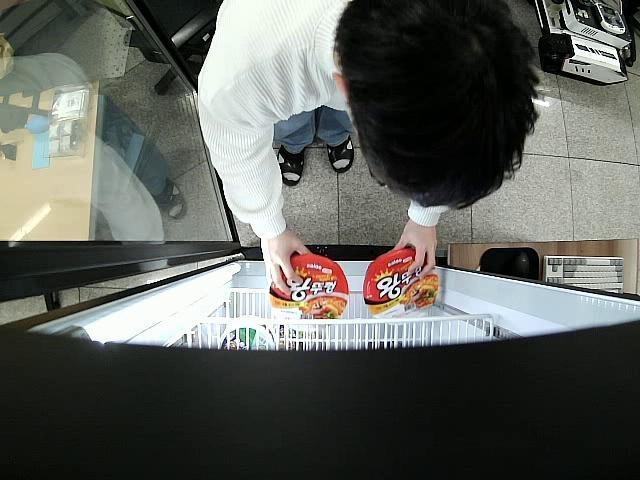10_wangTtukkeong: (268, 252, 349, 331), (363, 249, 440, 318)
